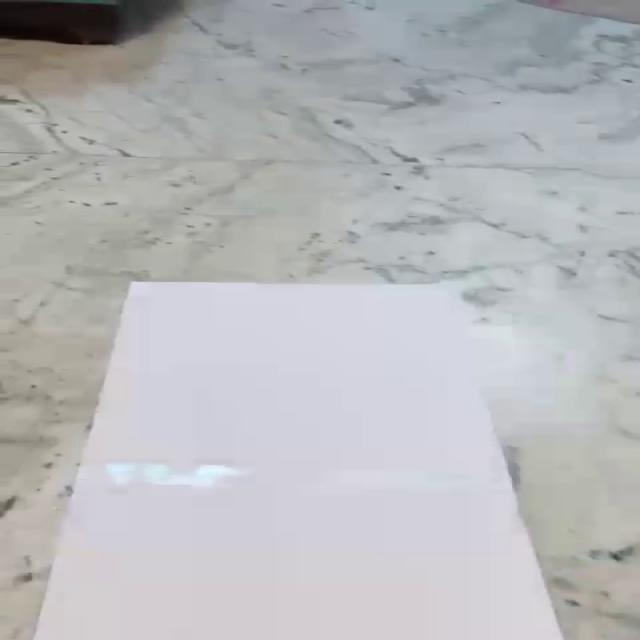road: (32, 282, 565, 640)
